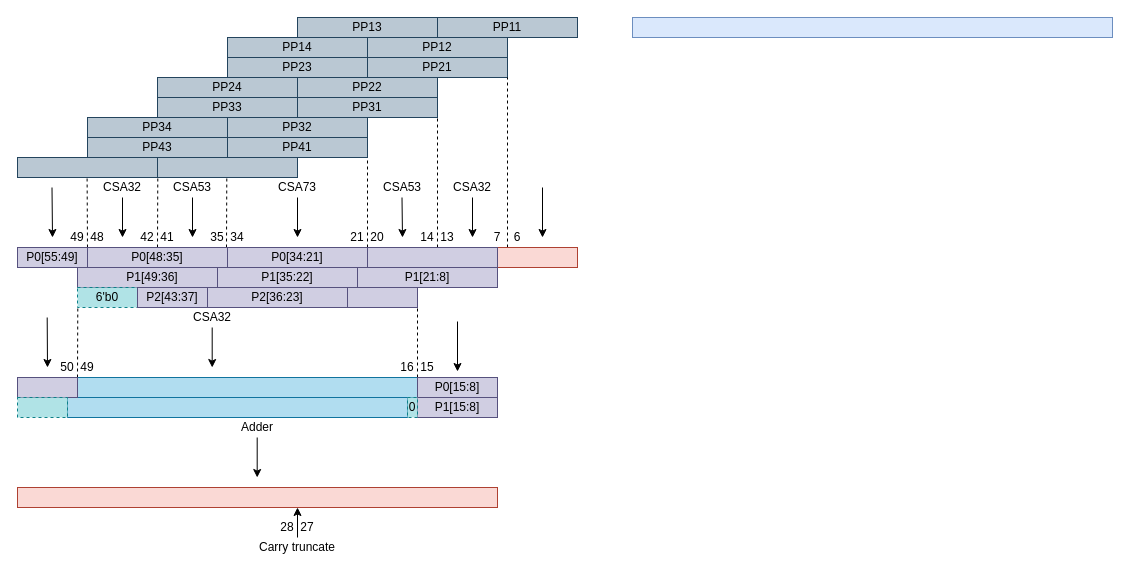
Some shapes in this 1130 by 575 pixel diagram are drawn without their labels. The shapes that lost their labels are listed below. From the top down, each one's centre as x and y in pixels, then its label:
At (x=87, y=167): "PP44".
At (x=227, y=167): "PP42".
At (x=432, y=257): "P0[20:8]".
At (x=537, y=257): "out[7:0]".
At (x=382, y=297): "P2[22:16]".
At (x=42, y=407): "5'b0".
At (x=47, y=387): "P0[55:50]".
At (x=237, y=407): "P4[50:17]".
At (x=247, y=387): "P3[49:16]".
At (x=257, y=497): "out[55:8]".
